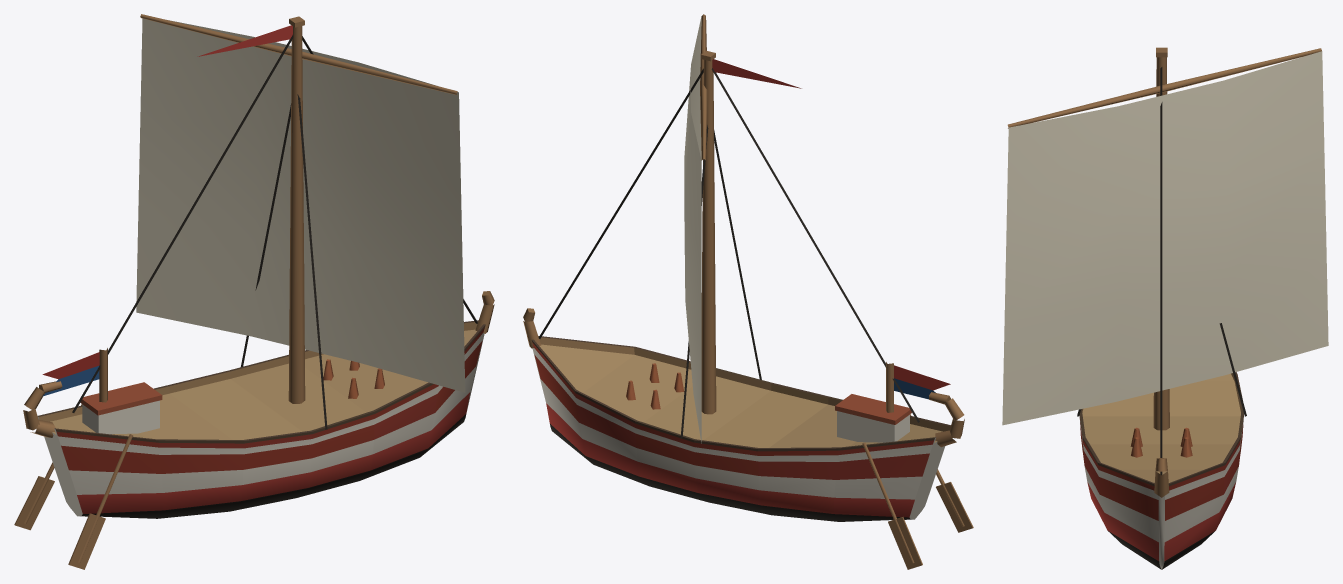
File: hull_usd_coaster_small.glb
3 renders of one model, left to right at view 1: azimuth 30°, elevation 25°; view 2: azimuth 150°, elevation 25°; view 3: azimuth 270°, elevation 25°, orthographic. The views are drawn at different scales.
Parts seen in each view (by area): view 1: sail_main, hull, deck, mast, rigging, flag, yards; view 2: hull, deck, sail_main, mast, rigging, flag, yards; view 3: sail_main, hull, yards, rigging, mast, deck.
Boxes of the visible parts, box(x1,y1,x2,y2) form: sail_main: box(136, 18, 465, 392); hull: box(23, 291, 494, 518); deck: box(14, 359, 384, 569); mast: box(99, 16, 305, 403); rigging: box(72, 34, 477, 429); flag: box(42, 25, 292, 396); yards: box(140, 14, 457, 95); hull: box(523, 308, 964, 521); deck: box(626, 363, 973, 569); sail_main: box(684, 16, 701, 443); mast: box(701, 50, 893, 414); rigging: box(538, 68, 919, 438); flag: box(712, 59, 950, 399); yards: box(700, 14, 707, 160); sail_main: box(1002, 51, 1328, 425); hull: box(1079, 372, 1243, 569); yards: box(1007, 48, 1321, 128); rigging: box(1077, 67, 1246, 475); mast: box(1153, 47, 1169, 430); deck: box(1130, 427, 1192, 457).
Bounding box in the file's own units: 10.71 × 10.25 × 6.48.
